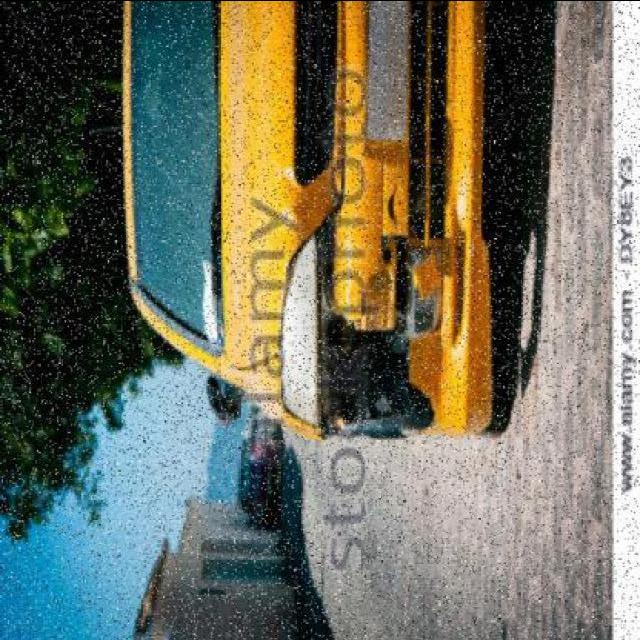front-bumper-dent: (309, 1, 499, 458)
